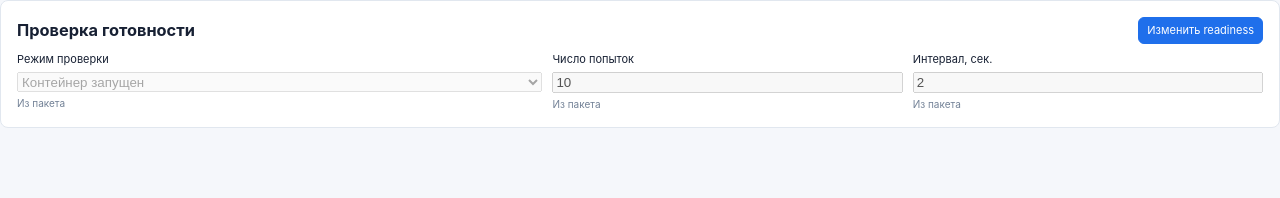
Test: readiness form › enforces contract retry and delay bounds
Click the button "Изменить readiness": [1201, 31] box left=1138, top=17, right=1263, bottom=44
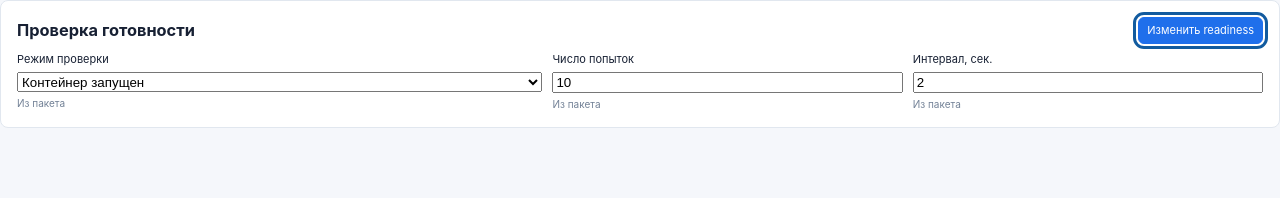
Replace the text in the number field labelled "Число попыток" with "61": [728, 82] box left=552, top=72, right=903, bottom=93
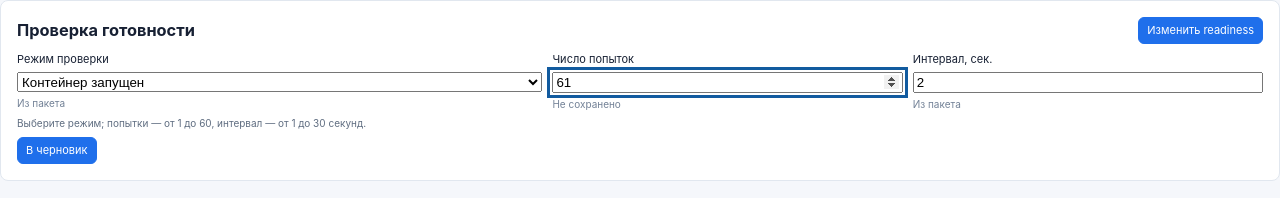
Check: the button "В черновик" is disabled, box left=17, top=137, right=96, bottom=164
Check: the message "Выберите режим; попытки — от 1 до 60, интервал — от 1 до 30 секунд." is shown, box left=17, top=117, right=366, bottom=129
